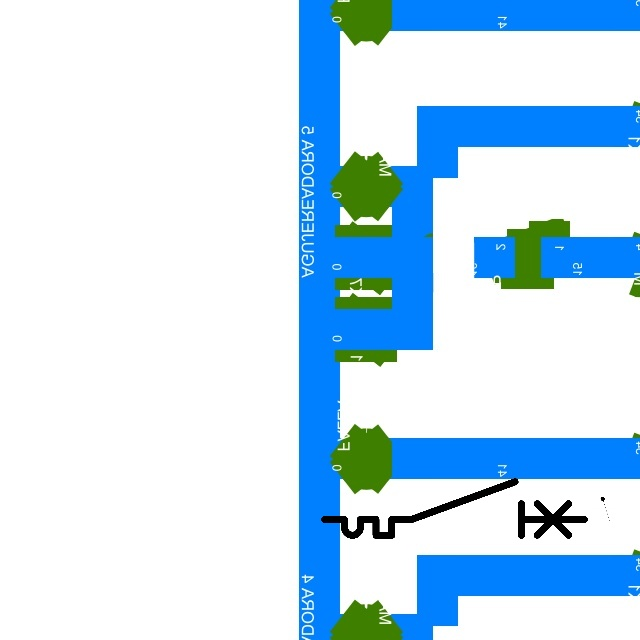interruptor_termomagnetico: (318, 475, 591, 542)
